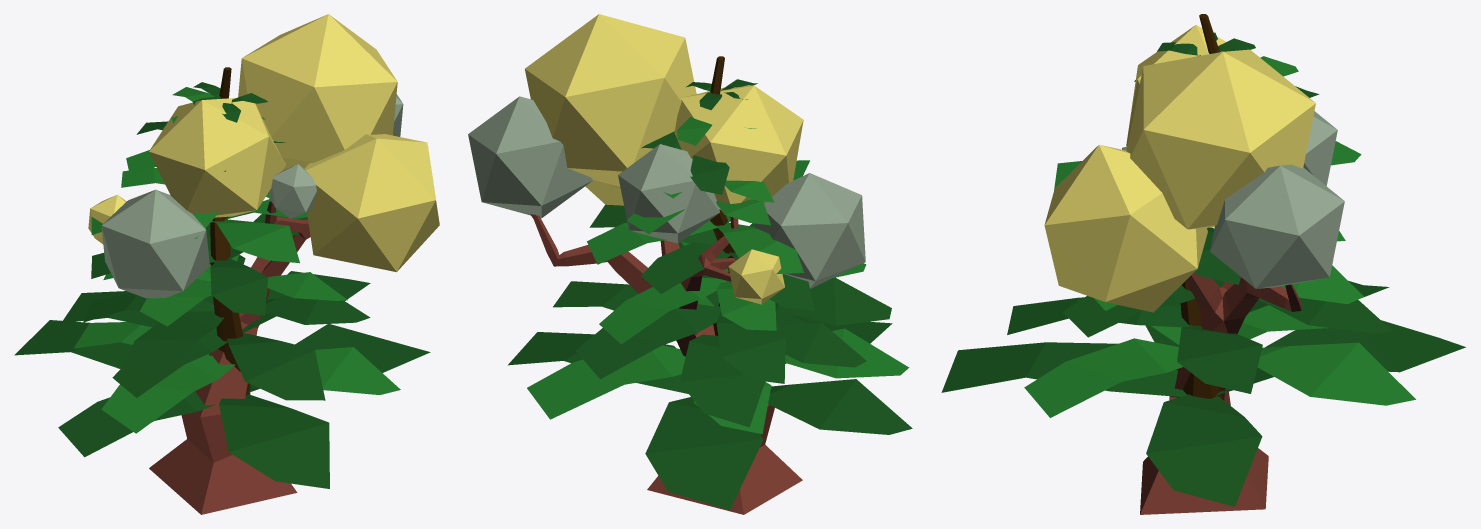
File: albero_sfondo.glb
3 views of the same model, side by side, from view 1: azimuth 30°, elevation 25°; view 2: azimuth 150°, elevation 25°; view 3: azimuth 270°, elevation 25° (orthographic). The views are drawn at different scales.
Visible parts, largest first — view 1: Icosphere.002, Icosphere.004, Icosphere.001, Cube, Icosphere, Plane.003, Plane.011, Plane.007, Plane.015, Plane.002, Plane.004, Plane (+15 smaller); view 2: Icosphere.002, Icosphere.003, Icosphere.001, Plane.001, Icosphere, Cube, Icosphere.005, Plane.002, Plane.005, Plane.009, Plane.013, Plane.014 (+22 smaller); view 3: Icosphere.002, Icosphere.004, Icosphere.003, Plane, Cube, Plane.005, Plane.003, Plane.004, Plane.001, Plane.008, Plane.011, Plane.013 (+7 smaller).
Boxes of the visible parts, left/top/right/bottom form: Icosphere.002: left=238, top=14, right=397, bottom=170; Icosphere.004: left=304, top=134, right=439, bottom=272; Icosphere.001: left=149, top=98, right=285, bottom=217; Cube: left=149, top=201, right=310, bottom=514; Icosphere: left=101, top=189, right=209, bottom=298; Plane.003: left=219, top=394, right=329, bottom=488; Plane.011: left=227, top=333, right=325, bottom=400; Plane.007: left=101, top=355, right=235, bottom=433; Plane.015: left=124, top=311, right=223, bottom=379; Plane.002: left=58, top=391, right=215, bottom=457; Plane.004: left=315, top=347, right=400, bottom=394; Plane: left=248, top=324, right=430, bottom=392; Icosphere.002: left=525, top=14, right=696, bottom=186; Icosphere.003: left=468, top=96, right=592, bottom=218; Icosphere.001: left=674, top=85, right=803, bottom=209; Plane.001: left=645, top=397, right=763, bottom=509; Icosphere: left=754, top=173, right=865, bottom=288; Cube: left=530, top=214, right=802, bottom=514; Icosphere.005: left=618, top=144, right=719, bottom=243; Plane.002: left=768, top=379, right=912, bottom=434; Plane.005: left=527, top=345, right=685, bottom=419; Plane.009: left=679, top=334, right=764, bottom=427; Plane.013: left=575, top=304, right=721, bottom=379; Plane.014: left=716, top=312, right=785, bottom=383; Icosphere.002: left=1126, top=49, right=1315, bottom=229; Icosphere.004: left=1044, top=144, right=1207, bottom=312; Icosphere.003: left=1210, top=164, right=1344, bottom=288; Plane: left=1146, top=394, right=1262, bottom=506; Cube: left=1140, top=272, right=1301, bottom=514; Plane.005: left=1257, top=342, right=1415, bottom=405; Plane.003: left=941, top=342, right=1187, bottom=396; Plane.004: left=1024, top=338, right=1183, bottom=417; Plane.001: left=1216, top=320, right=1465, bottom=395; Plane.008: left=1177, top=325, right=1262, bottom=393; Plane.011: left=1007, top=297, right=1192, bottom=334; Plane.013: left=1258, top=297, right=1392, bottom=333.
Size of the model in its own units: 5.61 by 6.34 by 6.02.
